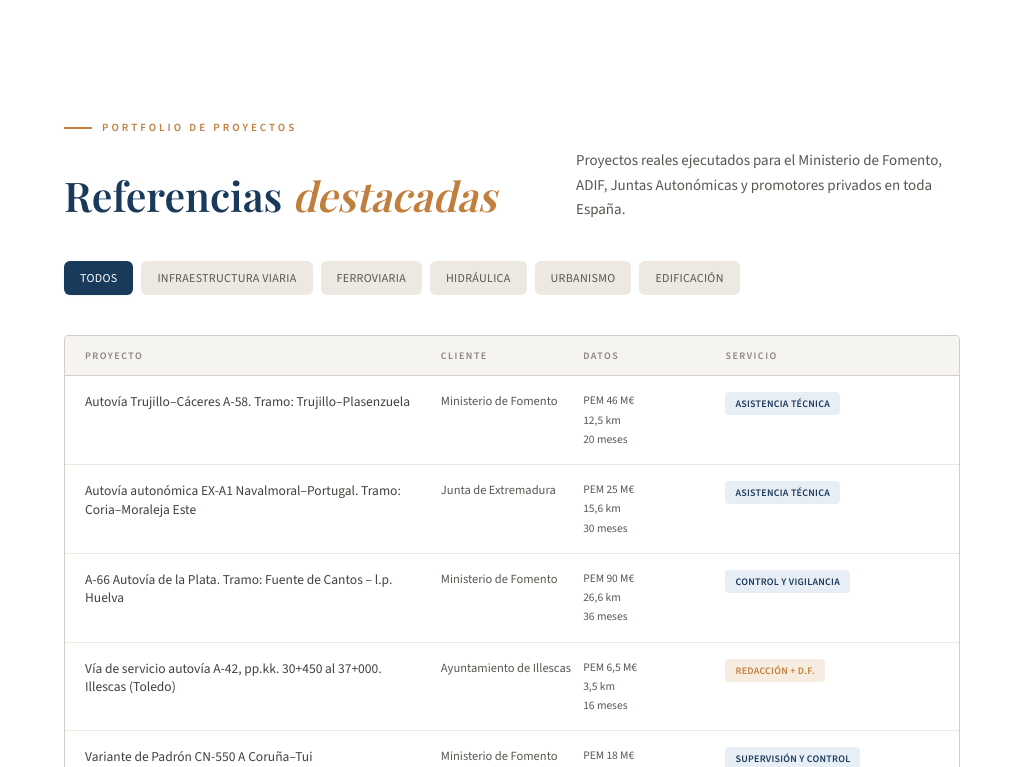
Test: References › renders ADIF as client in ferroviaria filter
Click the button "Ferroviaria": point(371, 278) [320,261,422,295]
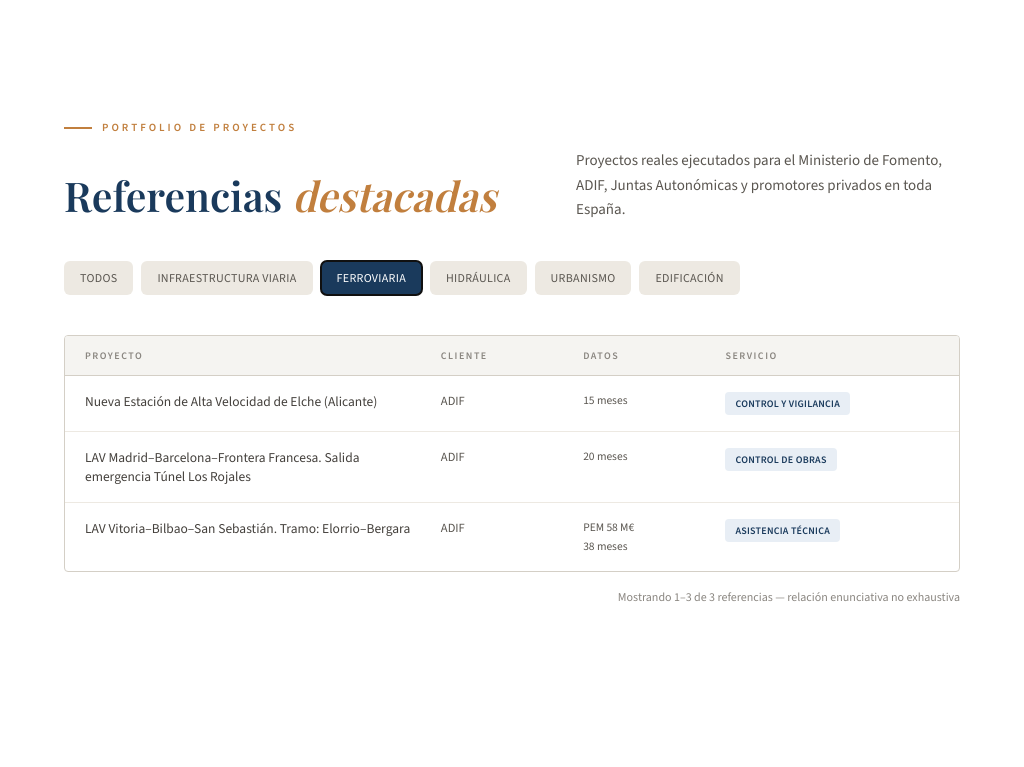
Check: the text "ADIF" next to "15 meses" is shown, box [441,392,465,409]
